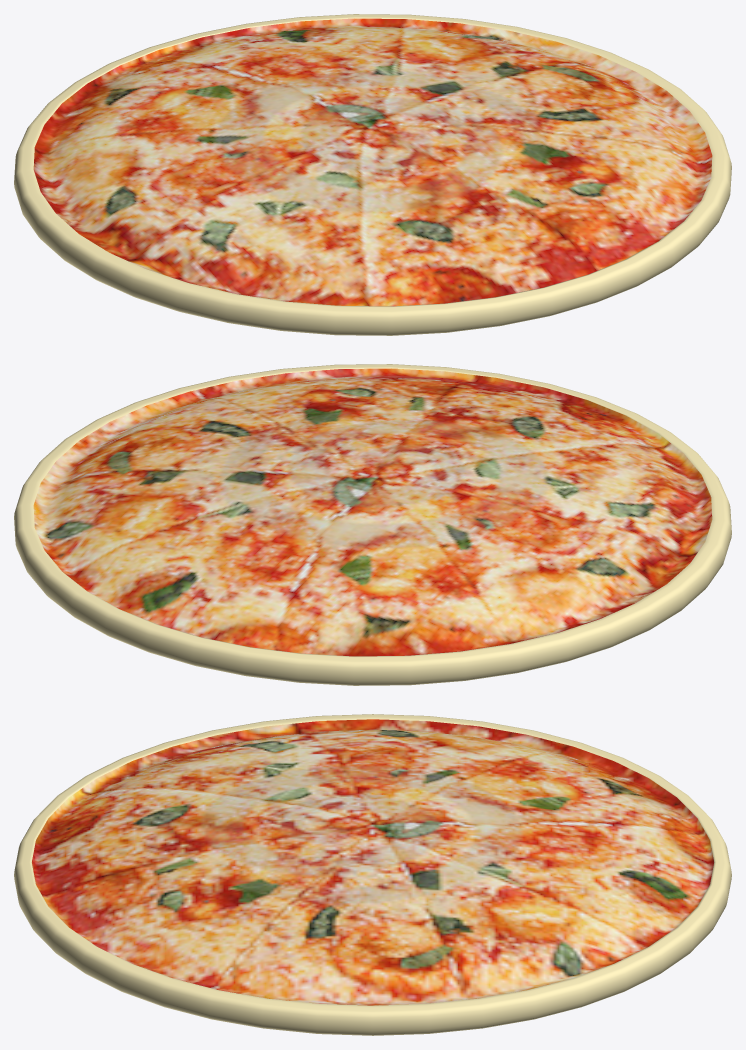
File: pizza.gltf
3 renders of one model, top to bottom at view 1: azimuth 30°, elevation 25°; view 2: azimuth 150°, elevation 25°; view 3: azimuth 270°, elevation 25°, orthographic.
Bounding box in the file's own units: 0.6849 × 0.0628 × 0.6849.
3 materials, 1 textured.
